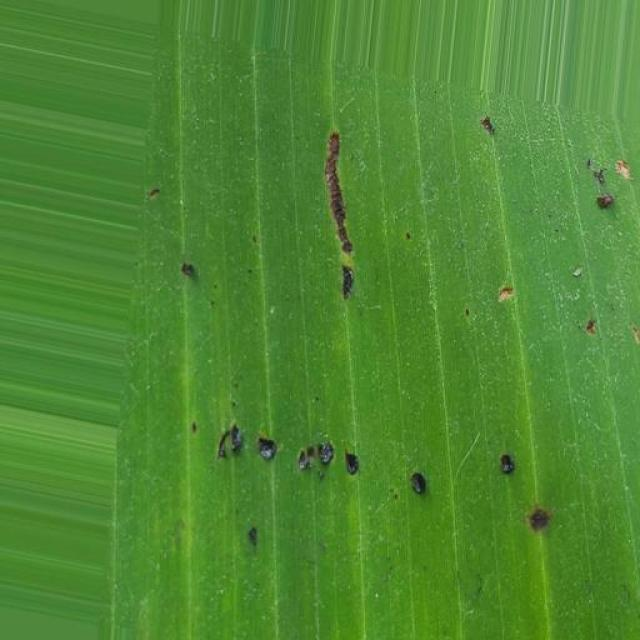Black_rot: (194, 416, 561, 582), (297, 120, 386, 311), (142, 172, 220, 322), (494, 278, 611, 336), (556, 147, 634, 219), (481, 102, 522, 148)
